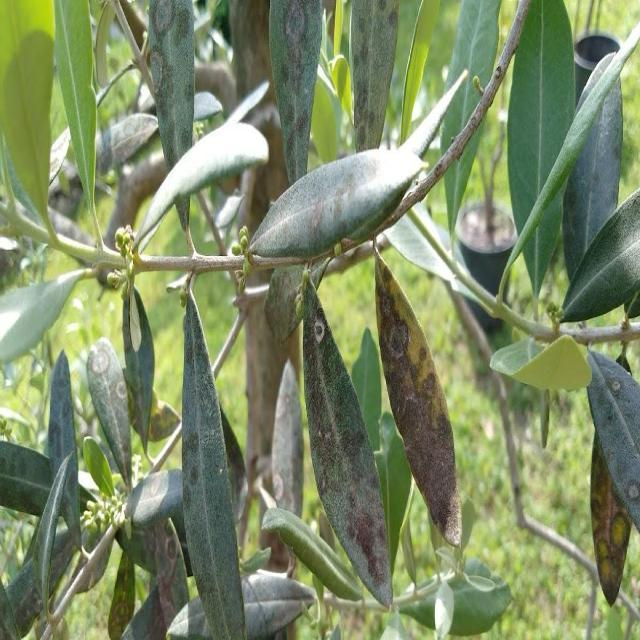OlivePeacockSpot: (302, 280, 392, 606), (375, 254, 461, 546), (182, 292, 246, 639), (586, 350, 640, 532), (271, 0, 323, 184), (148, 0, 194, 171), (351, 0, 398, 151), (590, 436, 632, 604), (86, 338, 130, 486), (48, 350, 81, 546)
